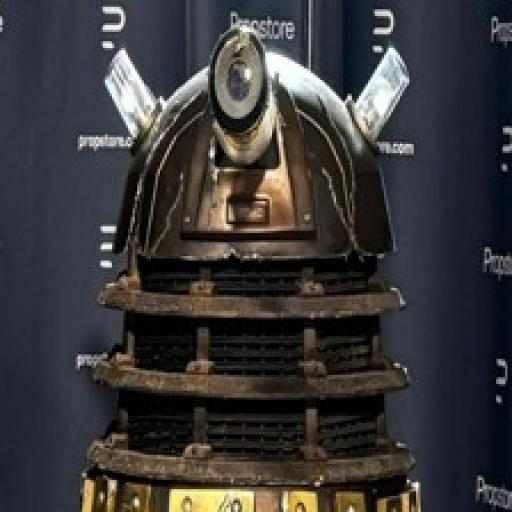dalek: (78, 25, 420, 512)
